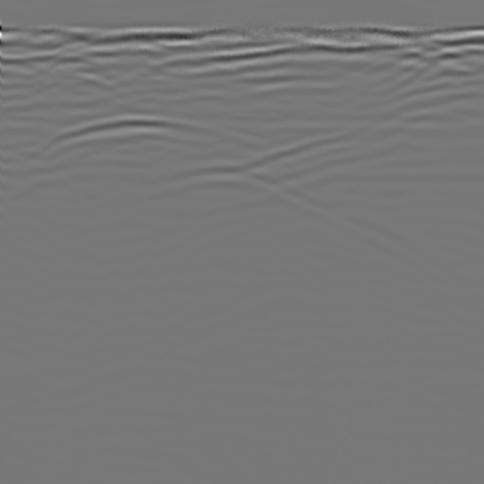hyperbola: (1, 97, 291, 245)
